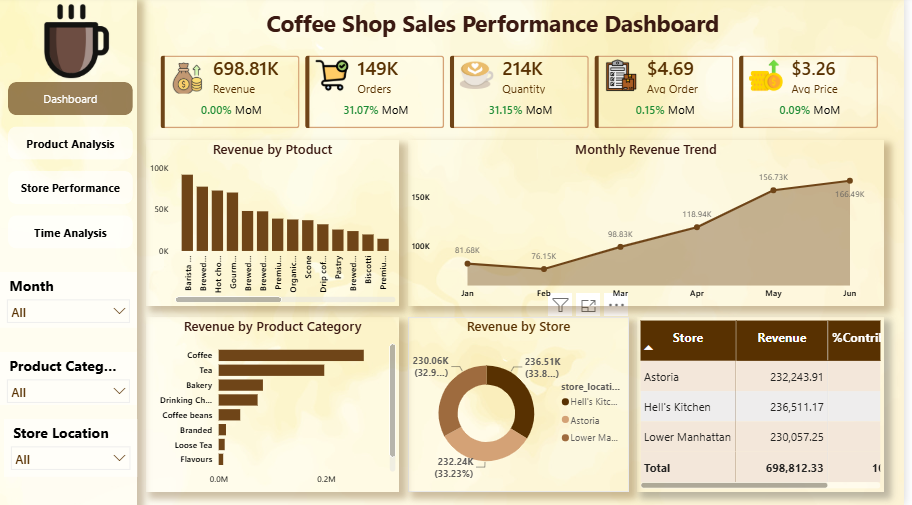

The dashboard page shown, as its layout file describes it:
{"tool":"powerbi","page":{"name":"Dashboard","canvas":[1280,720],"ordinal":0},"visuals":[{"type":"cardVisual","fields":{"Data":["Transactions.Total_Revenue","Transactions.Total_Orders","Transactions.Total_Quantity","Transactions.Avg_order","Transactions.Avg_Selling_Price"]},"box":[222.5,78,1027.6,113.4],"z":0},{"type":"image","box":[26.9,0,147.8,122.6],"z":1000},{"type":"textbox","box":[372.8,9.9,680.3,68],"z":2000},{"type":"shape","box":[0,0,194.2,720],"z":3000},{"type":"donutChart","title":"Revenue by Store","fields":{"Y":["Transactions.Total_Revenue"],"Category":["Storetable.store_location"]},"box":[578.3,453.5,313.2,248],"z":4000},{"type":"lineChart","title":"Monthly Revenue Trend","fields":{"Category":["Date Table.Month_Name"],"Y":["Transactions.Total_Revenue"]},"box":[578.3,202.7,674.6,235.3],"z":5000},{"type":"clusteredBarChart","title":"Revenue by Product Category","fields":{"Category":["ProductTable.product_category"],"Y":["Transactions.Total_Revenue"]},"box":[206.9,453.5,358.6,248],"z":6000},{"type":"clusteredColumnChart","title":"Revenue by Ptoduct","fields":{"Category":["ProductTable.product_type"],"Y":["Transactions.Total_Revenue"]},"box":[206.9,202.7,358.6,235.3],"z":7000},{"type":"slicer","fields":{"Values":["ProductTable.product_category"]},"box":[0,503.1,194.2,75.1],"z":8000},{"type":"slicer","fields":{"Values":["Date Table.Month_Name"]},"box":[0,389.8,194.2,79.4],"z":9000},{"type":"slicer","fields":{"Values":["Storetable.store_location"]},"box":[5.7,598.1,188.5,82.2],"z":10000},{"type":"pageNavigator","box":[11.3,120.5,177.2,239.5],"z":11000},{"type":"pivotTable","fields":{"Rows":["Storetable.store_location"],"Values":["Transactions.Total_Revenue","Storetable.%Contribution"]},"box":[902.8,453.5,350.1,248],"z":12000}]}

Visuals, with their boxes on the page's 1280x720 design canvas (x1, y1, x2, y2). These are canvas units, not pixel positions in the 912x505 screenshot, which may show the page scaled, cropped or inside an application window:
cardVisual - Transactions.Total_Revenue x Transactions.Total_Orders: <bbox>222, 78, 1250, 191</bbox>
image: <bbox>27, 0, 175, 123</bbox>
textbox: <bbox>373, 10, 1053, 78</bbox>
shape: <bbox>0, 0, 194, 720</bbox>
"Revenue by Store" donutChart: <bbox>578, 454, 892, 702</bbox>
"Monthly Revenue Trend" lineChart: <bbox>578, 203, 1253, 438</bbox>
"Revenue by Product Category" clusteredBarChart: <bbox>207, 454, 566, 702</bbox>
"Revenue by Ptoduct" clusteredColumnChart: <bbox>207, 203, 566, 438</bbox>
slicer - ProductTable.product_category: <bbox>0, 503, 194, 578</bbox>
slicer - Date Table.Month_Name: <bbox>0, 390, 194, 469</bbox>
slicer - Storetable.store_location: <bbox>6, 598, 194, 680</bbox>
pageNavigator: <bbox>11, 120, 188, 360</bbox>
pivotTable - Storetable.store_location x Transactions.Total_Revenue: <bbox>903, 454, 1253, 702</bbox>
